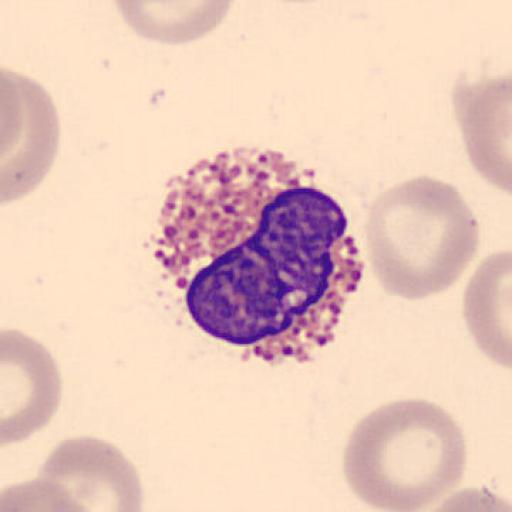RBC: (360, 173, 482, 302), (342, 397, 469, 511), (37, 433, 145, 512), (2, 69, 61, 205), (452, 73, 512, 195), (2, 327, 63, 447), (462, 248, 512, 372), (111, 0, 236, 47), (1, 476, 96, 512), (411, 485, 512, 512)
WBC: (151, 150, 368, 361)
